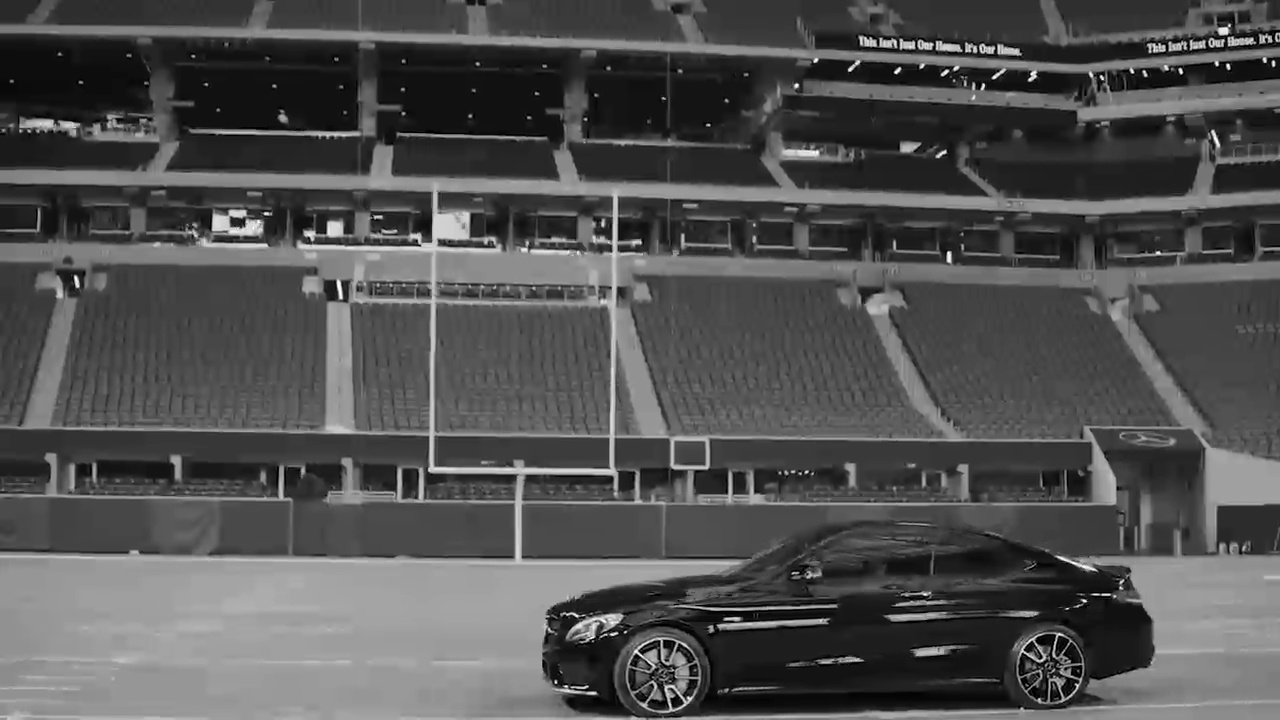car: (535, 517, 1163, 720)
